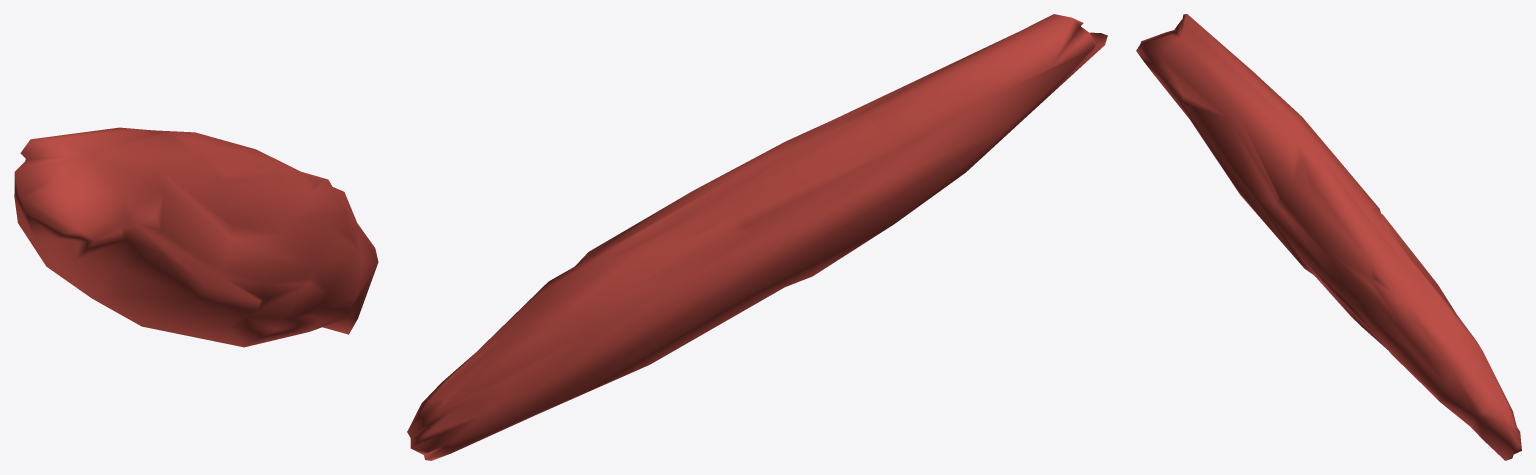
Rendered from musculos-obliquus-inferior-capitis-muscle-r.glb.
3 renders of one model, left to right at view 1: azimuth 30°, elevation 25°; view 2: azimuth 150°, elevation 25°; view 3: azimuth 270°, elevation 25°, orthographic. The views are drawn at different scales.
Visible parts, largest first — view 1: Obliquus inferior capitis muscle.r; view 2: Obliquus inferior capitis muscle.r; view 3: Obliquus inferior capitis muscle.r.
Part boxes in pixels (x1,y1,x2,y2): Obliquus inferior capitis muscle.r: (14, 127, 378, 347); Obliquus inferior capitis muscle.r: (407, 14, 1107, 460); Obliquus inferior capitis muscle.r: (1136, 14, 1521, 460).
Bounding box in the file's own units: 0.0387 × 0.0315 × 0.0377.
